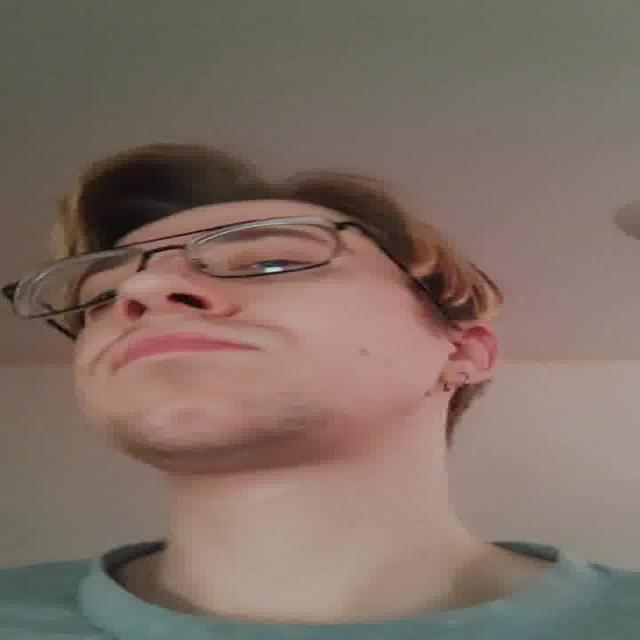earlobe: (439, 371, 480, 388)
eye: (224, 258, 320, 273), (87, 290, 115, 318)
nose: (112, 299, 232, 342)
wholeear: (437, 318, 505, 389)
